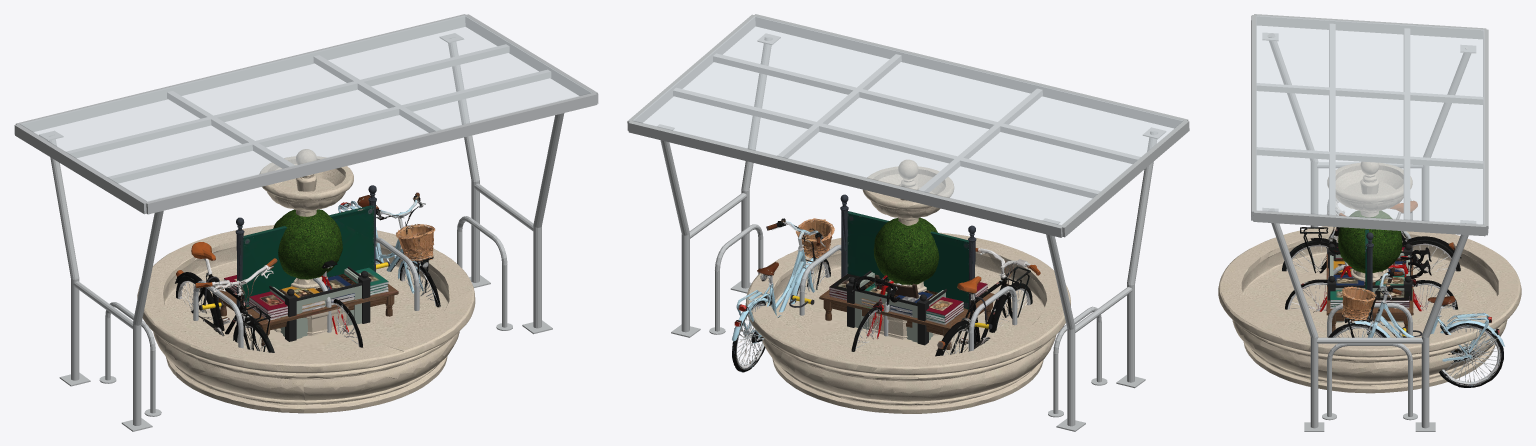
Rendered from accessoires.glb.
The picture shows the model from 3 angles, left to right: view 1: azimuth 30°, elevation 25°; view 2: azimuth 150°, elevation 25°; view 3: azimuth 270°, elevation 25°; orthographic projection. The views are drawn at different scales.
Parts seen in each view (by area): view 1: AbriVelos-verre, AbriVelos-acier, Fontaine, PanneauHoraires, Presentoir, Versailles-buis, VeloHollandais, VeloDame, Versailles-fer, Versailles-bois, VeloCourse; view 2: AbriVelos-verre, AbriVelos-acier, Fontaine, PanneauHoraires, VeloDame, Versailles-buis, Presentoir, VeloHollandais, VeloCourse, Versailles-fer, Versailles-bois; view 3: AbriVelos-verre, Fontaine, AbriVelos-acier, VeloDame, Versailles-buis, VeloHollandais, Presentoir, VeloCourse, Versailles-fer, PanneauHoraires, Versailles-bois.
Part boxes in pixels (x1,y1,x2,y2): AbriVelos-verre: (20, 15, 592, 201); AbriVelos-acier: (14, 14, 598, 431); Fontaine: (137, 149, 475, 413); PanneauHoraires: (235, 185, 376, 323); Presentoir: (218, 267, 398, 346); Versailles-buis: (273, 209, 342, 279); VeloHollandais: (175, 242, 277, 352); VeloDame: (338, 192, 440, 307); Versailles-fer: (269, 266, 371, 341); Versailles-bois: (270, 268, 361, 338); VeloCourse: (321, 260, 362, 347); AbriVelos-verre: (633, 16, 1183, 225); AbriVelos-acier: (627, 14, 1189, 431); Fontaine: (745, 160, 1070, 413); PanneauHoraires: (840, 194, 976, 327); VeloDame: (732, 218, 834, 372); Versailles-buis: (873, 217, 939, 284); Presentoir: (819, 273, 994, 349); VeloHollandais: (935, 248, 1040, 356); VeloCourse: (851, 275, 900, 351); Versailles-fer: (846, 270, 946, 345); Versailles-bois: (855, 272, 945, 342); AbriVelos-verre: (1256, 15, 1484, 224); Fontaine: (1218, 162, 1521, 393); AbriVelos-acier: (1251, 14, 1488, 431); VeloDame: (1328, 271, 1504, 387); Versailles-buis: (1338, 210, 1402, 273); VeloHollandais: (1282, 198, 1461, 273); Presentoir: (1326, 247, 1413, 332); VeloCourse: (1285, 247, 1457, 312); Versailles-fer: (1327, 243, 1412, 315); PanneauHoraires: (1365, 229, 1373, 334); Versailles-bois: (1330, 253, 1409, 322).
Bounding box in the file's own units: 4.65 × 2.48 × 3.
Materials: 18 (11 with a texture image).
